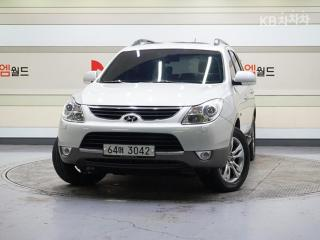0: (133, 146, 139, 155)
2: (145, 146, 150, 155)
3: (127, 145, 133, 155)
4: (139, 146, 145, 156), (112, 145, 118, 154)
6: (107, 145, 113, 154)
plate: (100, 142, 158, 160)
허: (118, 145, 125, 154)
